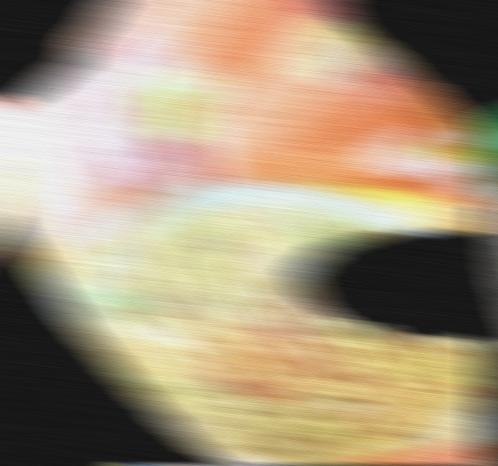pancit canton sweet and spicy: (0, 0, 498, 466)
reno: (42, 464, 301, 466)
sprite: (478, 98, 498, 466)
